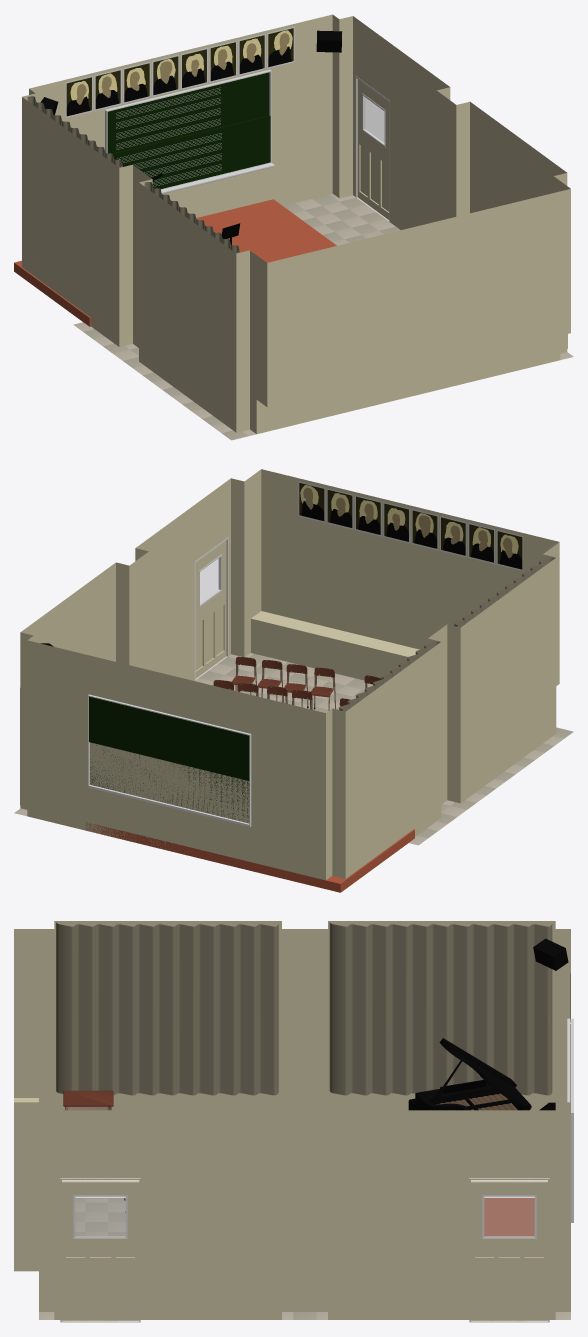
Rendered from Room_musicroom.fbx.
3 renders of one model, top to bottom at view 1: azimuth 30°, elevation 25°; view 2: azimuth 150°, elevation 25°; view 3: azimuth 270°, elevation 25°, orthographic. The views are drawn at different scales.
Parts seen in each view (by area): view 1: Plane, Plane.002, Plane.005, Plane.001, Plane.003, Plane.004, Plane.006, Cube; view 2: Plane, Plane.002, Plane.005, Plane.001, Plane.004, Plane.003, Plane.006, chair.004; view 3: Plane, Plane.006, Plane.004, piano, Plane.001, Plane.003, table, Plane.002, Cube.
Boxes of the visible parts, left/top/right/bottom form: Plane: left=22, top=14, right=570, bottom=434; Plane.002: left=105, top=69, right=274, bottom=193; Plane.005: left=65, top=26, right=294, bottom=117; Plane.001: left=73, top=194, right=573, bottom=440; Plane.003: left=14, top=199, right=336, bottom=326; Plane.004: left=355, top=76, right=567, bottom=348; Plane.006: left=27, top=96, right=239, bottom=253; Cube: left=40, top=30, right=342, bottom=114; Plane: left=20, top=469, right=559, bottom=880; Plane.002: left=88, top=694, right=251, bottom=826; Plane.005: left=298, top=481, right=523, bottom=570; Plane.001: left=14, top=653, right=573, bottom=845; Plane.004: left=20, top=537, right=228, bottom=804; Plane.003: left=85, top=822, right=414, bottom=892; Plane.006: left=339, top=557, right=554, bottom=711; chair.004: left=310, top=667, right=335, bottom=710; Plane: left=14, top=921, right=570, bottom=1319; Plane.006: left=56, top=922, right=552, bottom=1095; Plane.004: left=60, top=1178, right=549, bottom=1322; piano: left=408, top=1038, right=531, bottom=1110; Plane.001: left=39, top=1198, right=570, bottom=1319; Plane.003: left=484, top=1198, right=534, bottom=1236; table: left=63, top=1090, right=113, bottom=1110; Plane.002: left=567, top=1018, right=573, bottom=1222; Cube: left=533, top=938, right=568, bottom=1110.
Size of the model in its own units: 607 by 303 by 726.
